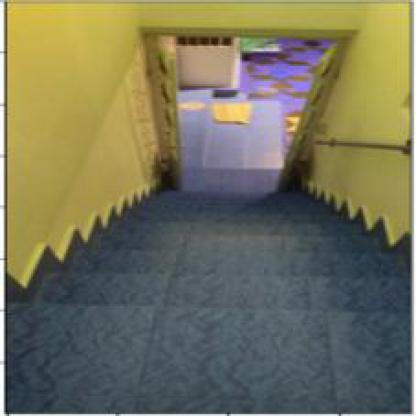stair_down: (62, 209, 359, 361)
